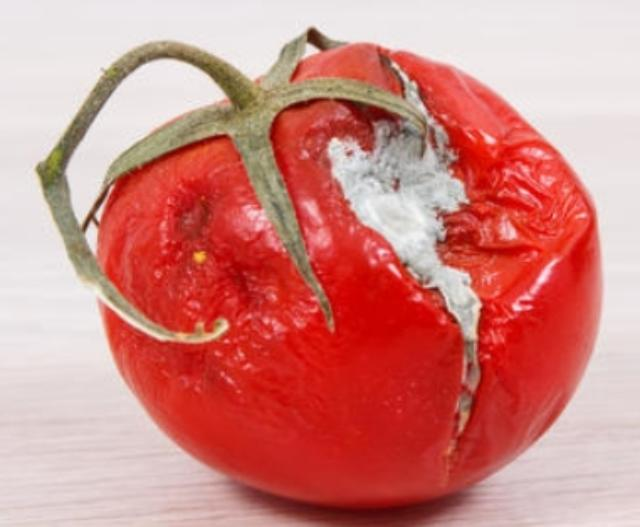defect: (37, 25, 608, 513)
